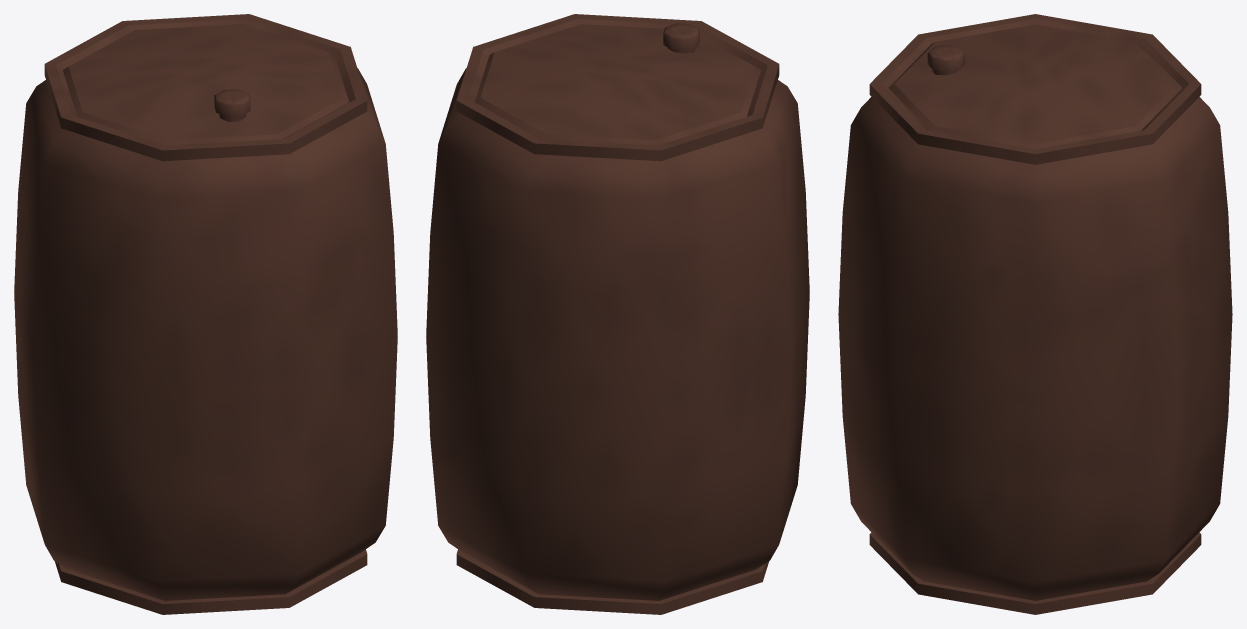
The model's file is Bochka3.fbx.
3 renders of one model, left to right at view 1: azimuth 30°, elevation 25°; view 2: azimuth 150°, elevation 25°; view 3: azimuth 270°, elevation 25°, orthographic.
Visible parts, largest first — view 1: Cylinder.011; view 2: Cylinder.011; view 3: Cylinder.011.
Part boxes in pixels (x1,y1,x2,y2): Cylinder.011: (14, 14, 397, 614); Cylinder.011: (426, 14, 809, 614); Cylinder.011: (838, 14, 1232, 614).
Bounding box in the file's own units: 91.24 × 124 × 91.24.
